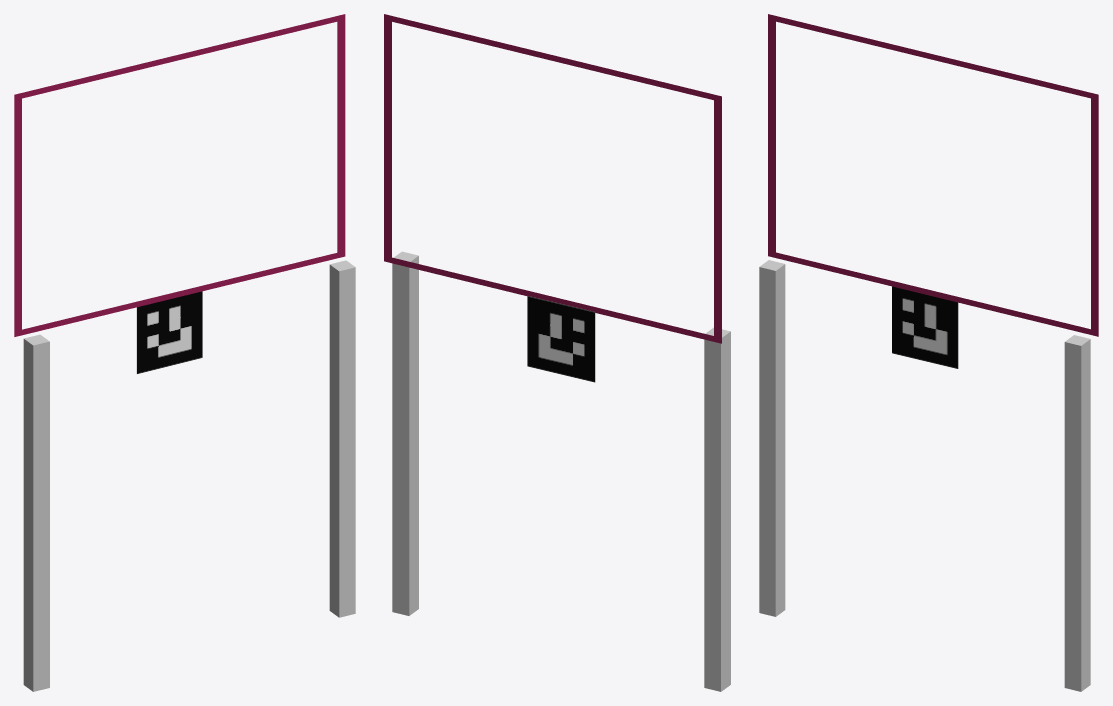
The model's file is gate4.dae.
3 views of the same model, side by side, from view 1: azimuth 30°, elevation 25°; view 2: azimuth 150°, elevation 25°; view 3: azimuth 330°, elevation 25° (orthographic). The views are drawn at different scales.
Visible parts, largest first — view 1: right1.0, left1.0, Gate1.001, crop4; view 2: left1.0, right1.0, Gate1.001, crop4; view 3: right1.0, left1.0, Gate1.001, crop4.
Part boxes in pixels (x1,y1,x2,y2): right1.0: (23, 334, 49, 691); left1.0: (329, 260, 355, 617); Gate1.001: (14, 14, 345, 336); crop4: (136, 291, 202, 374); left1.0: (392, 251, 418, 615); right1.0: (704, 327, 730, 691); Gate1.001: (384, 14, 721, 343); crop4: (527, 296, 595, 382); right1.0: (759, 260, 785, 616); left1.0: (1064, 335, 1090, 691); Gate1.001: (768, 14, 1098, 336); crop4: (892, 286, 958, 368).
Size of what is drawn, in the model's own units: 1 by 0.0789 by 1.7.
Materials: 3 (1 with a texture image).
